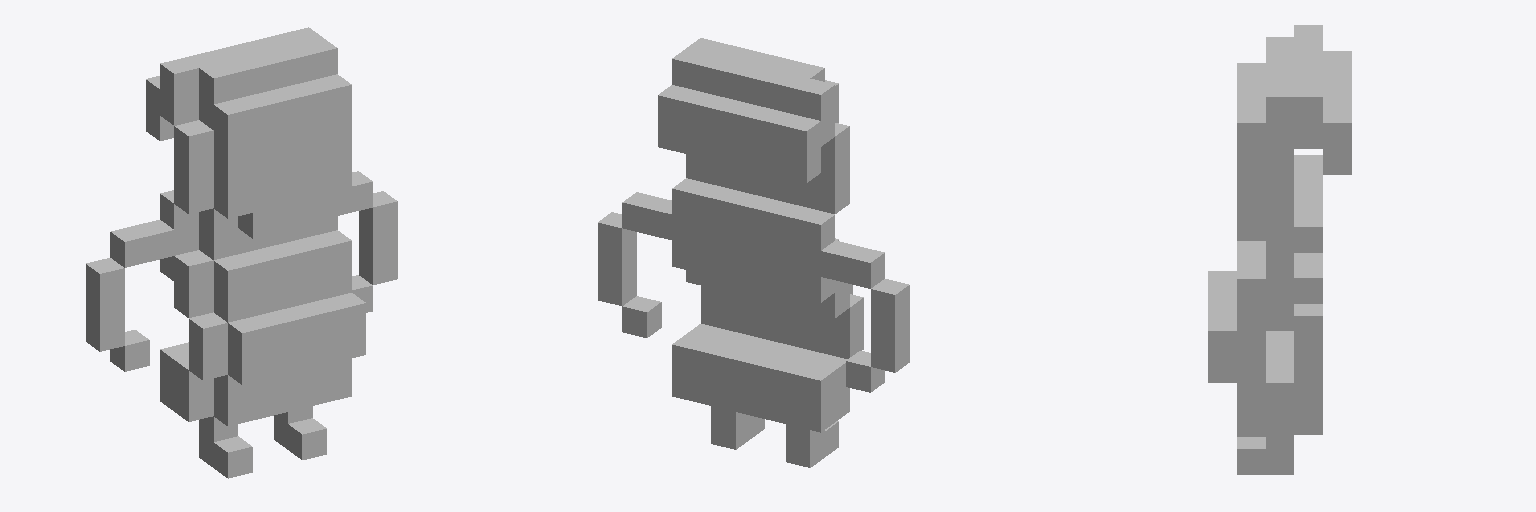
3 views of the same model, side by side, from view 1: azimuth 30°, elevation 25°; view 2: azimuth 150°, elevation 25°; view 3: azimuth 270°, elevation 25° (orthographic).
Visible parts, largest first — view 1: Bacon; view 2: Bacon; view 3: Bacon.
Part boxes in pixels (bbox=[...]): Bacon: bbox=[86, 27, 397, 478]; Bacon: bbox=[598, 38, 909, 467]; Bacon: bbox=[1208, 25, 1351, 474].
Bounding box in the file's own units: 0.78 × 0.975 × 0.325.